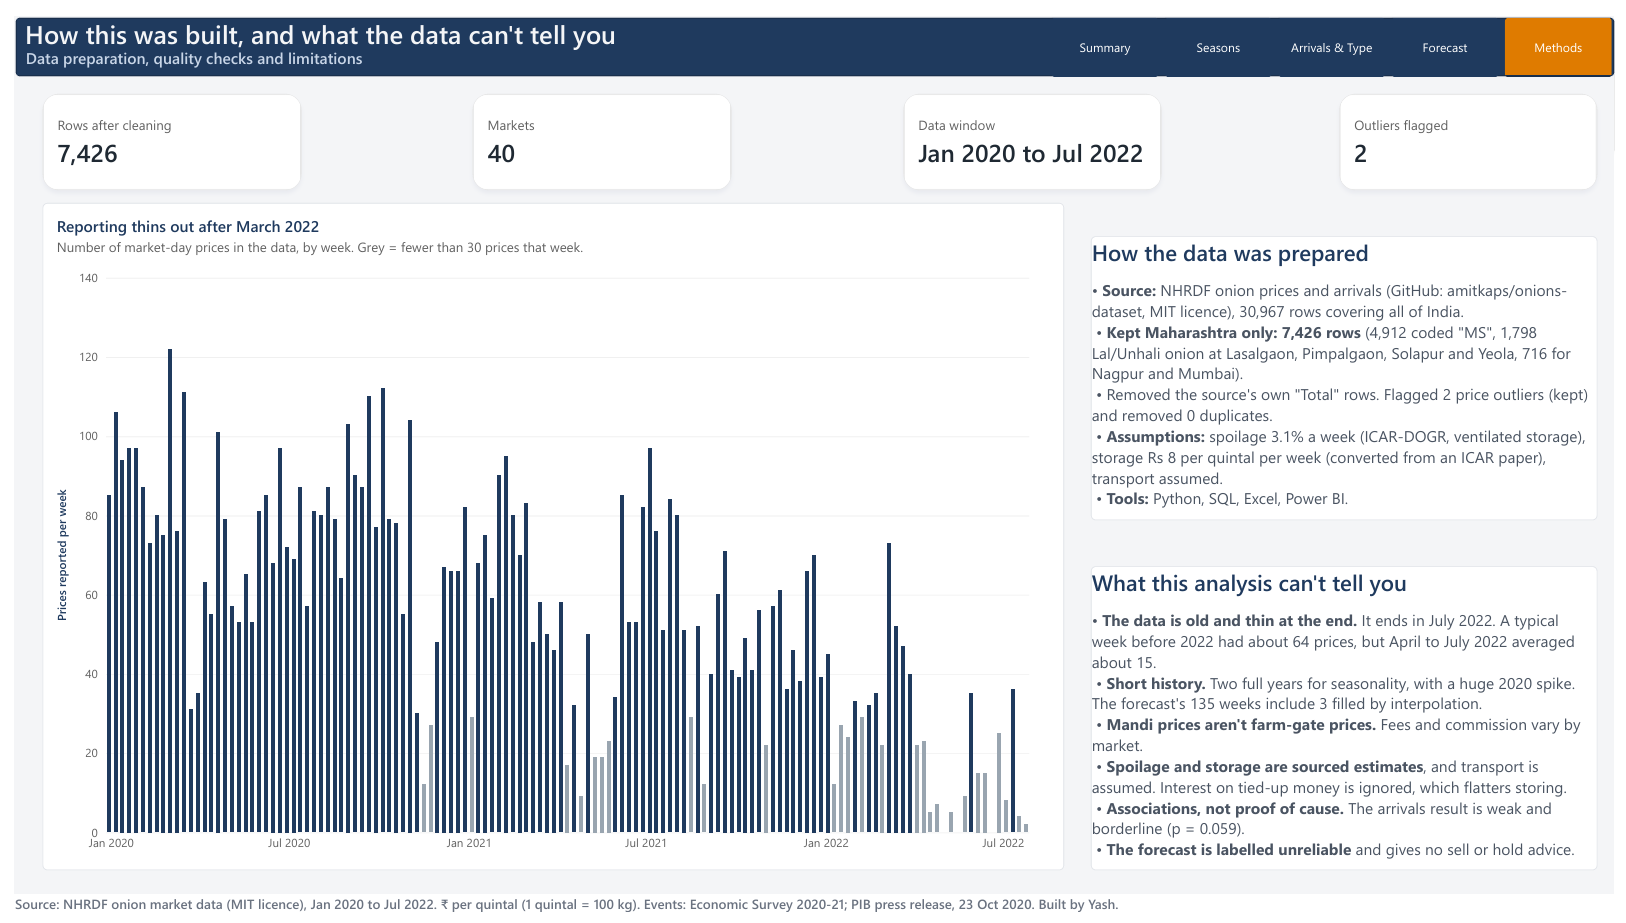

This screenshot's page, from the dashboard's own definition file:
{"tool":"powerbi","page":{"name":"Methods","canvas":[1920,1080],"ordinal":4},"visuals":[{"type":"columnChart","title":"Reporting thins out after March 2022","fields":{"Category":["dim_date.week_start"],"Y":["Measures (2).Rows"]},"box":[33.1,223.3,1226.2,800.6],"z":0},{"type":"cardVisual","fields":{"Data":["Measures (2).Data window"]},"box":[1065.7,92.4,310.5,115.1],"z":1000},{"type":"textbox","title":"How the data was prepared","box":[1290.7,262.5,608.7,341.9],"z":2000},{"type":"textbox","title":"What this analysis can''t tell you","box":[1290.7,659.3,608.7,364.5],"z":3000},{"type":"shape","box":[0,0,1920.4,71.5],"z":4000},{"type":"textbox","title":"Source: NHRDF onion market data (MIT licence), Jan 2020 to Jul 2022. ₹ per quintal (1 quintal = 100 kg). Events: Economic Survey 2020-21; PIB press release, 23 Oct 2020. Built by Yash.","box":[0,1053.5,1920.4,26.2],"z":5000},{"type":"textbox","title":"How this was built, and what the data can''t tell you","box":[0,0,1214,47.1],"z":6000},{"type":"textbox","title":"Data preparation, quality checks and limitations","box":[0.8,37.3,1034.3,34.9],"z":7000},{"type":"pageNavigator","box":[1243.6,0.7,676.4,71.3],"z":8000},{"type":"cardVisual","fields":{"Data":["Measures (2).Outliers flagged"]},"box":[1589,92.4,310.5,115.1],"z":9000},{"type":"cardVisual","fields":{"Data":["Measures (2).Markets"]},"box":[549.4,92.4,310.5,115.1],"z":10000},{"type":"cardVisual","fields":{"Data":["Measures (2).Rows Text"]},"box":[33.1,92.4,310.5,115.1],"z":11000}]}

Visuals, with their boxes in screenshot pixels (x1, y1, x2, y2), scaled from the page's 1920x1080 canvas onto the 1626x923 screenshot:
"Reporting thins out after March 2022" columnChart: left=28, top=191, right=1066, bottom=875
cardVisual - Measures (2).Data window: left=903, top=79, right=1165, bottom=177
"How the data was prepared" textbox: left=1093, top=224, right=1609, bottom=517
"What this analysis can''t tell you" textbox: left=1093, top=563, right=1609, bottom=875
shape: left=0, top=0, right=1625, bottom=61
"Source: NHRDF onion market data (MIT licence), Jan 2020 to Jul 2022. ₹ per quintal (1 quintal = 100 kg). Events: Economic Survey 2020-21; PIB press release, 23 Oct 2020. Built by Yash." textbox: left=0, top=900, right=1625, bottom=922
"How this was built, and what the data can''t tell you" textbox: left=0, top=0, right=1028, bottom=40
"Data preparation, quality checks and limitations" textbox: left=1, top=32, right=877, bottom=62
pageNavigator: left=1053, top=1, right=1625, bottom=62
cardVisual - Measures (2).Outliers flagged: left=1346, top=79, right=1609, bottom=177
cardVisual - Measures (2).Markets: left=465, top=79, right=728, bottom=177
cardVisual - Measures (2).Rows Text: left=28, top=79, right=291, bottom=177
